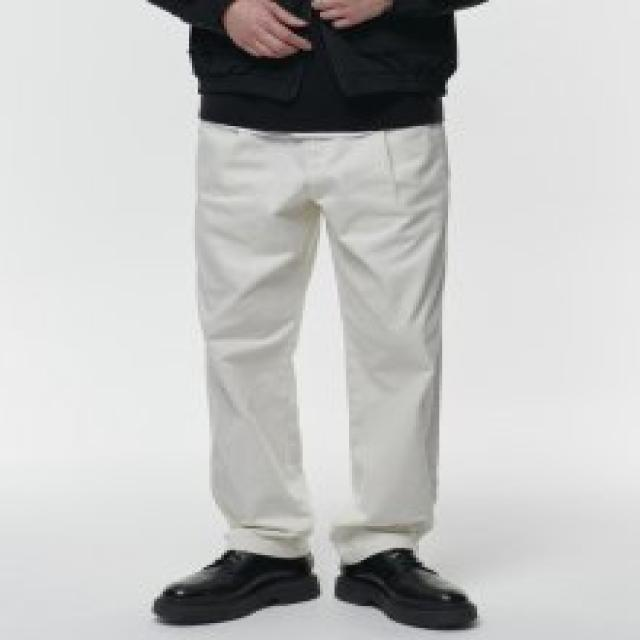long-pants: (194, 112, 447, 570)
